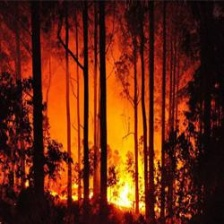fire: (107, 161, 153, 216), (60, 166, 95, 203)
